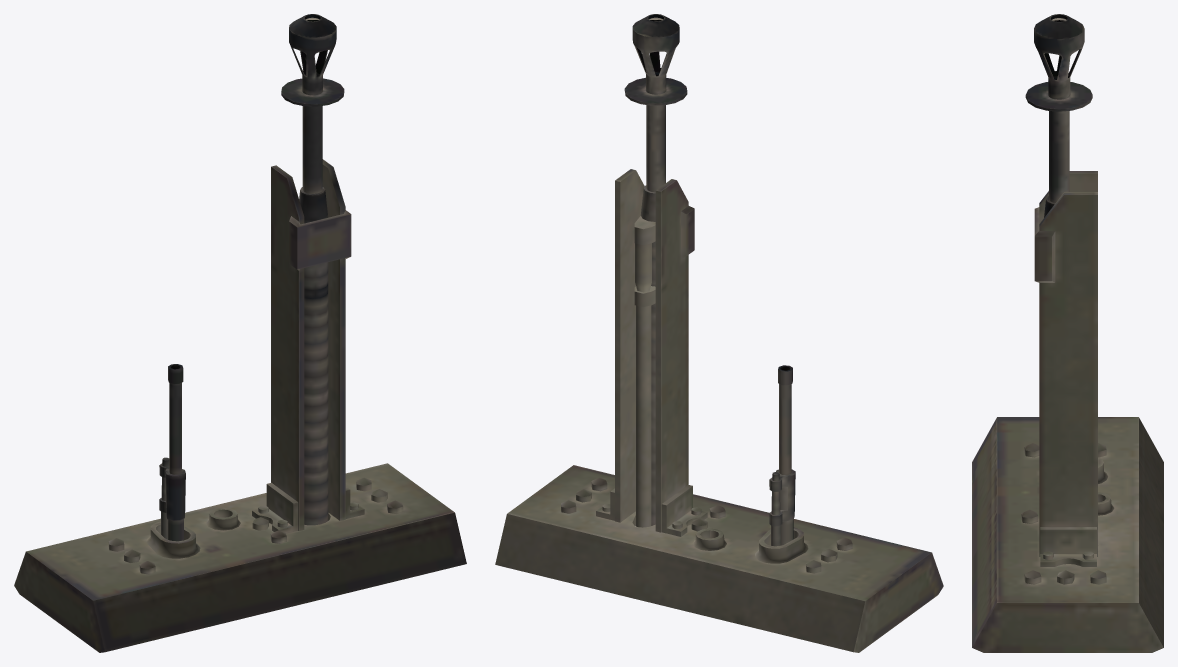
Rendered from Gun_05.glb.
3 views of the same model, side by side, from view 1: azimuth 30°, elevation 25°; view 2: azimuth 150°, elevation 25°; view 3: azimuth 270°, elevation 25° (orthographic). The views are drawn at different scales.
Visible parts, largest first — view 1: set_0_group_0; view 2: set_0_group_0; view 3: set_0_group_0.
Part boxes in pixels (x1=…): set_0_group_0: x1=14, y1=14, x2=466, y2=652; set_0_group_0: x1=495, y1=14, x2=943, y2=652; set_0_group_0: x1=972, y1=14, x2=1163, y2=652.
Bounding box in the file's own units: 0.673 × 0.9739 × 0.2935.
1 material, 1 textured.
